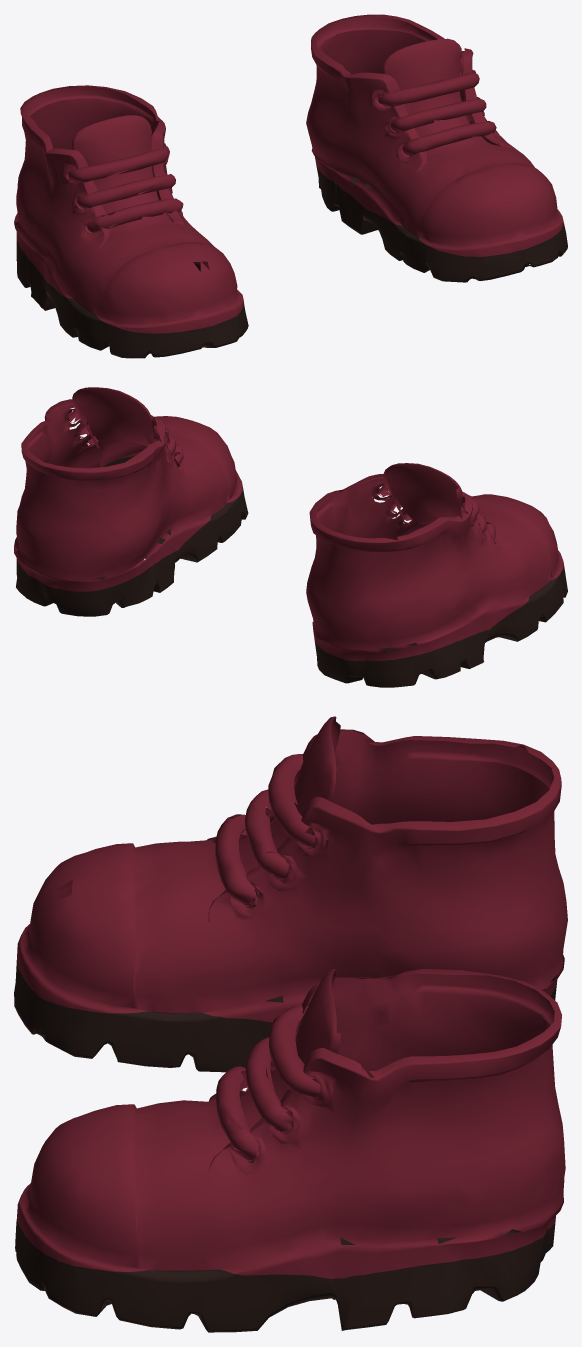
The model's file is shoes_f_mtnboots.glb.
3 views of the same model, one above another, from view 1: azimuth 30°, elevation 25°; view 2: azimuth 150°, elevation 25°; view 3: azimuth 270°, elevation 25° (orthographic). The views are drawn at different scales.
Parts seen in each view (by area): view 1: shoes_f_mtnboots; view 2: shoes_f_mtnboots; view 3: shoes_f_mtnboots.
Part boxes in pixels (x1,y1,x2,y2): shoes_f_mtnboots: (14,14,567,358); shoes_f_mtnboots: (14,387,567,687); shoes_f_mtnboots: (14,716,567,1332).
Bounding box in the file's own units: 0.4609 × 0.1697 × 0.2856.
Materials: 1 (1 with a texture image).
